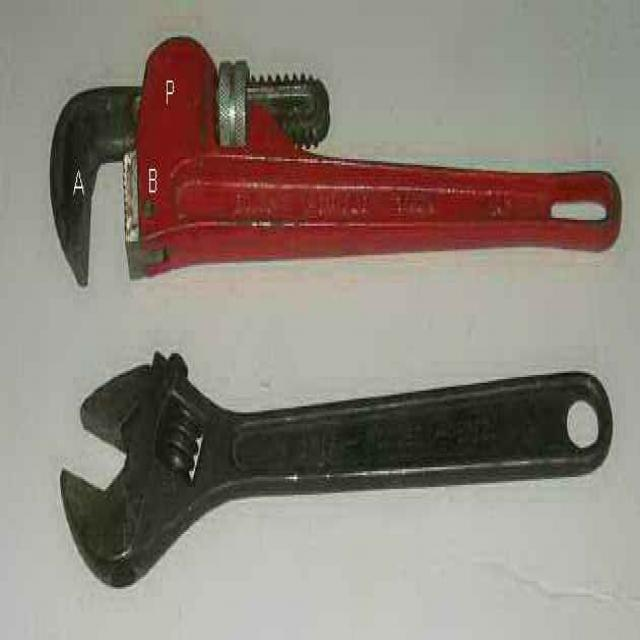wrench: (46, 29, 627, 298), (53, 340, 617, 598)
